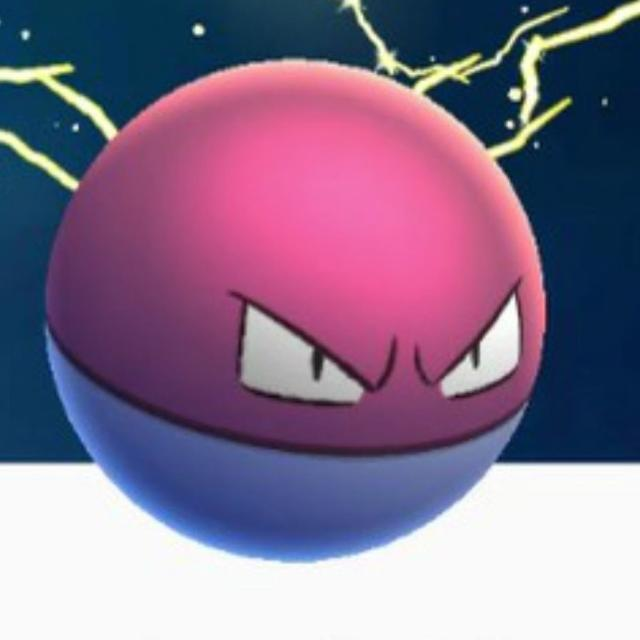Voltorb: (44, 54, 551, 570)
